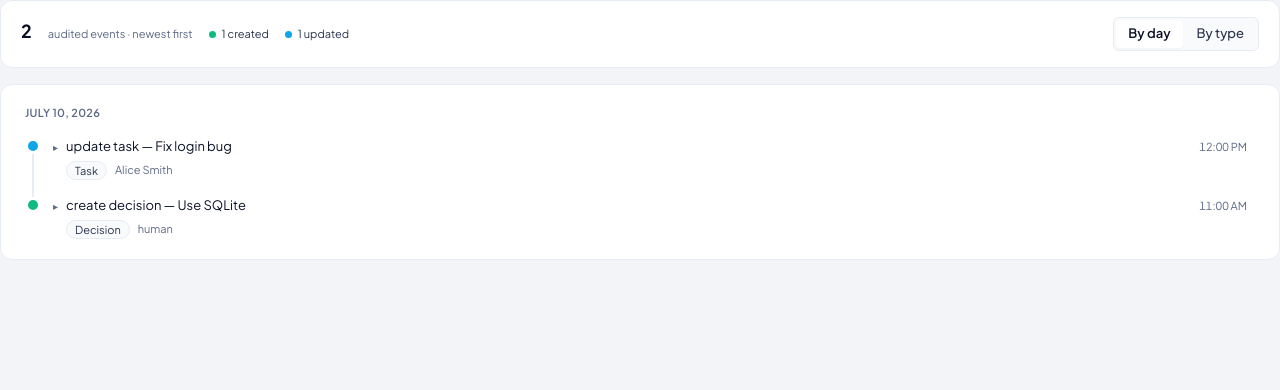
Test: TimelinePanel › expands an event on click to reveal its detail, and collapses again
The width and height of the screenshot is (1280, 390).
Expected: the text "tsk_1" is not shown
Click the button "▸ update task — Fix login bug 12:00 PM task Alice Smith" at (149, 146), box left=53, top=133, right=1255, bottom=184
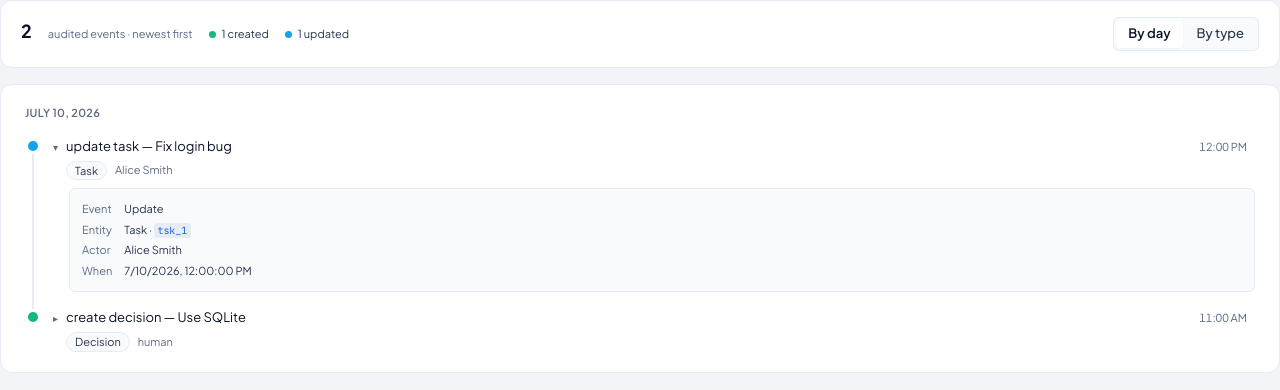
Now the text "tsk_1" is shown, box left=154, top=223, right=190, bottom=238
Click the button "▾ update task — Fix login bug 12:00 PM task Alice Smith" at (149, 146), box left=53, top=133, right=1255, bottom=184
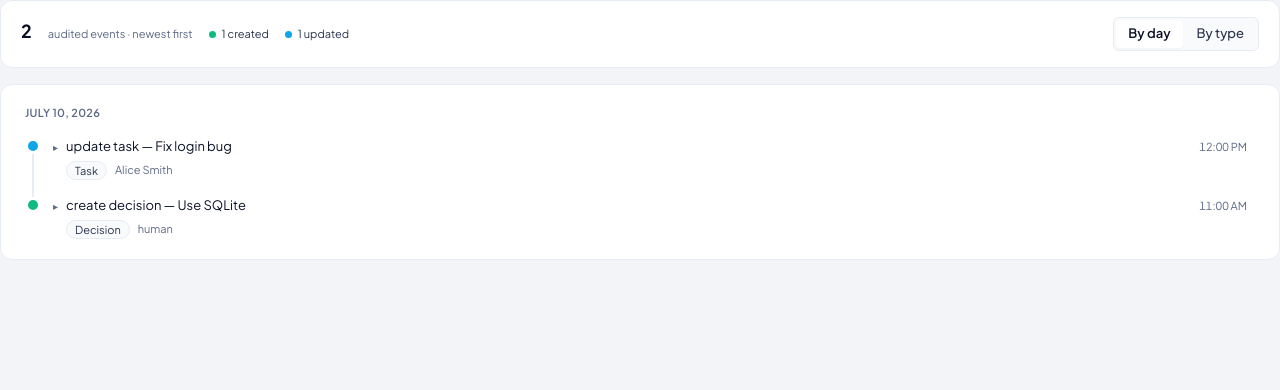
Now the text "tsk_1" is gone
